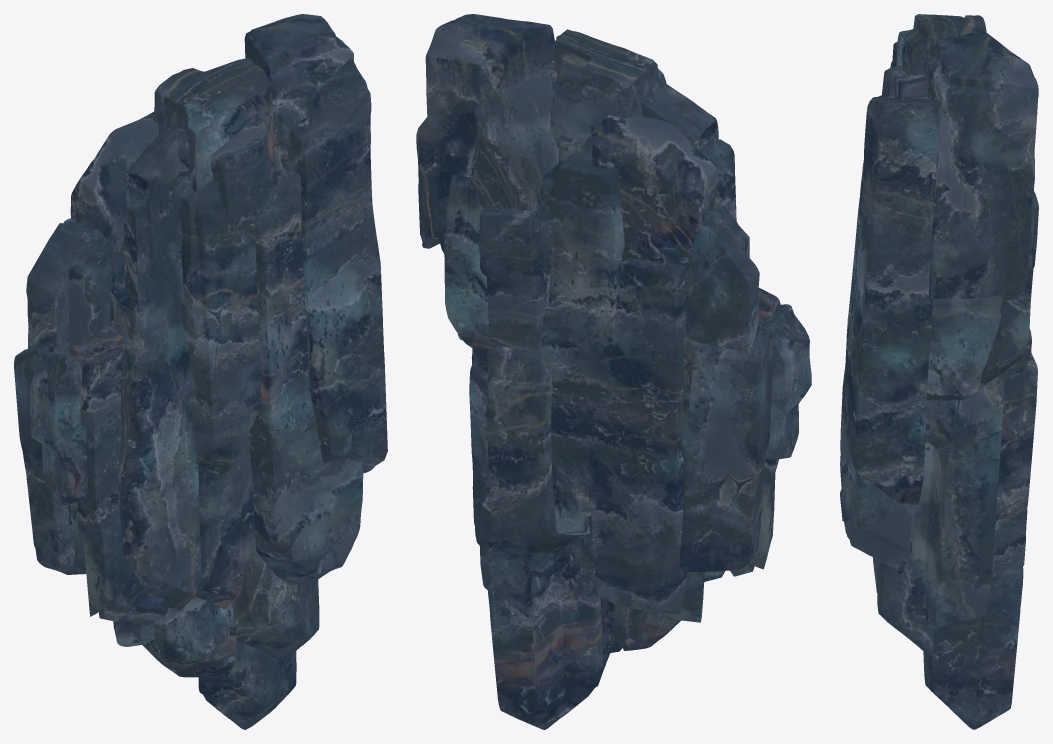
3 renders of one model, left to right at view 1: azimuth 30°, elevation 25°; view 2: azimuth 150°, elevation 25°; view 3: azimuth 270°, elevation 25°, orthographic.
Visible parts, largest first — view 1: SM_Cave_Rock_Wall_01_LOD0; view 2: SM_Cave_Rock_Wall_01_LOD0; view 3: SM_Cave_Rock_Wall_01_LOD0.
Part boxes in pixels (<box>): SM_Cave_Rock_Wall_01_LOD0: <box>14,14,387,729</box>; SM_Cave_Rock_Wall_01_LOD0: <box>416,14,811,729</box>; SM_Cave_Rock_Wall_01_LOD0: <box>840,14,1038,729</box>.
Bounding box in the file's own units: 10.36 × 20.96 × 5.41.
1 material, 1 textured.
